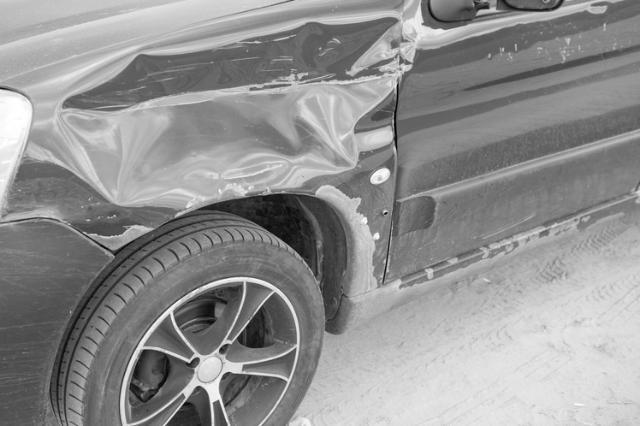Fender: (42, 22, 384, 220)
